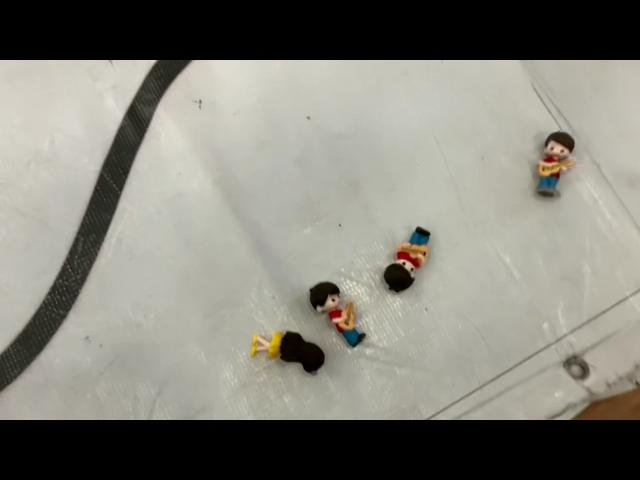man: (305, 277, 369, 347), (381, 222, 433, 296), (534, 122, 578, 208)
woman: (248, 326, 328, 378)
